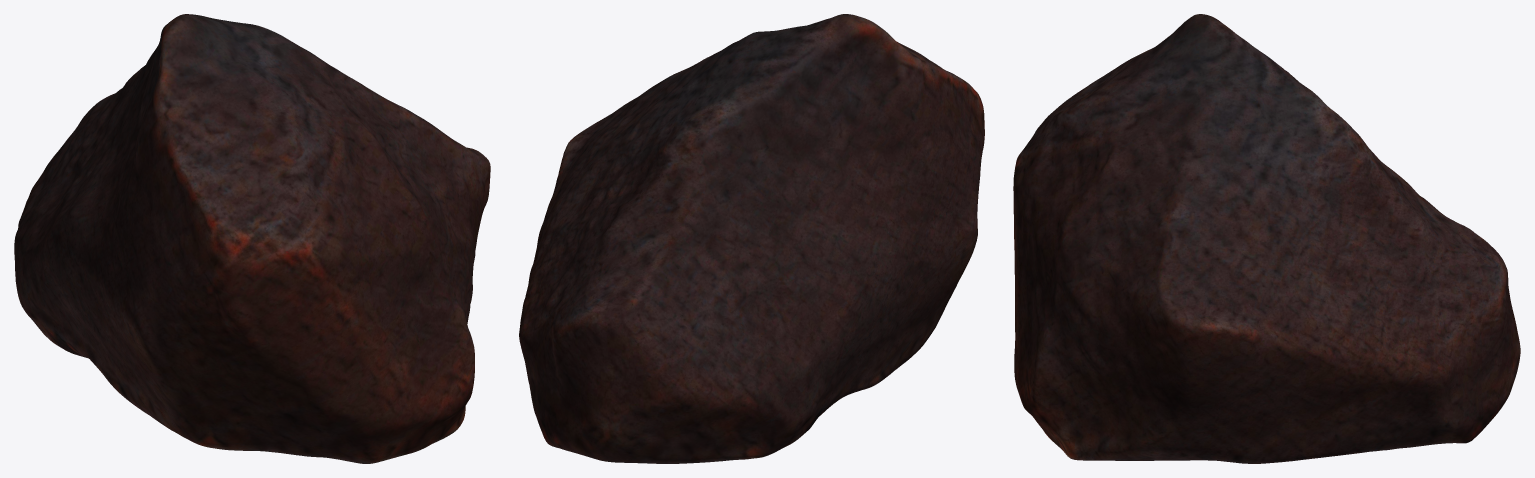
Rendered from d3567b4befa7_realistic_iron_ore_.fbx.
3 views of the same model, side by side, from view 1: azimuth 30°, elevation 25°; view 2: azimuth 150°, elevation 25°; view 3: azimuth 270°, elevation 25° (orthographic). The views are drawn at different scales.
Parts seen in each view (by area): view 1: high_poly; view 2: high_poly; view 3: high_poly.
Boxes of the visible parts, bbox=[...] form: high_poly: bbox=[14, 14, 490, 463]; high_poly: bbox=[519, 14, 984, 463]; high_poly: bbox=[1013, 14, 1520, 463].
Size of the model in its own units: 78.63 by 78.66 by 100.
